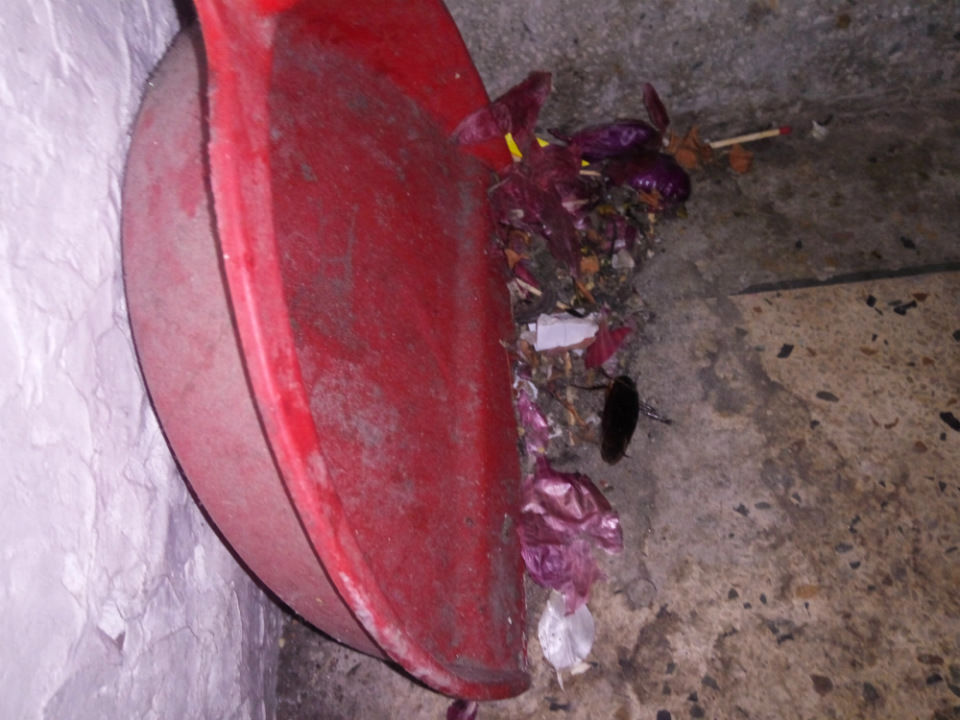cockroach: (575, 364, 676, 484)
